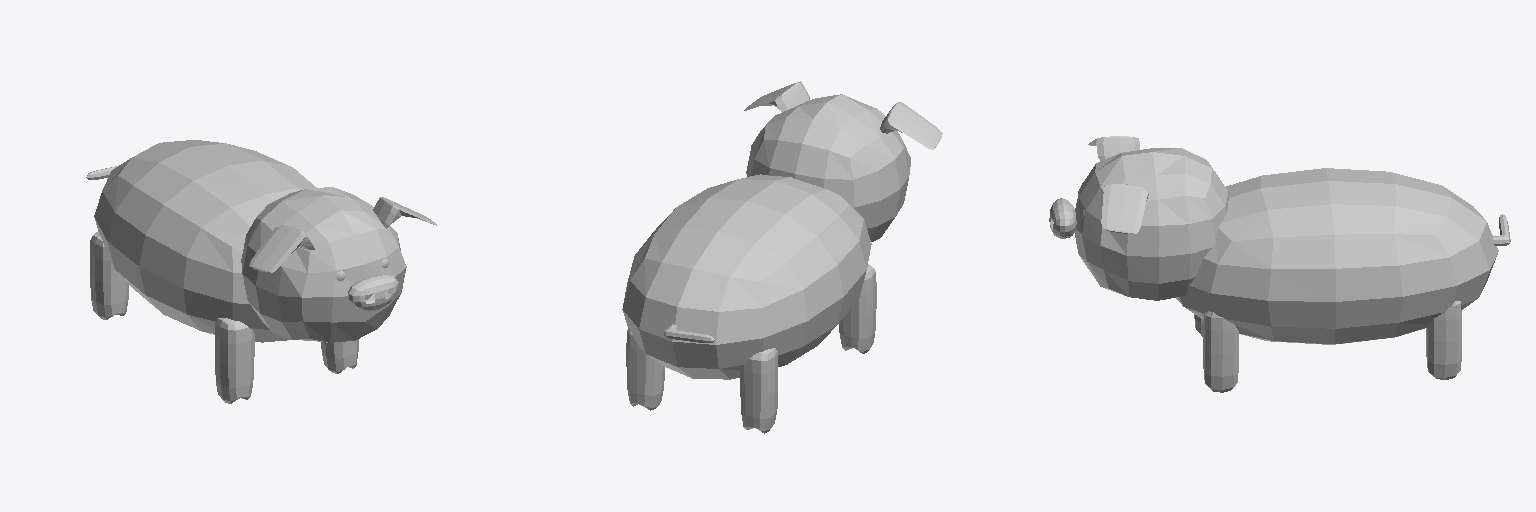
File: corpo.obj
3 renders of one model, left to right at view 1: azimuth 30°, elevation 25°; view 2: azimuth 150°, elevation 25°; view 3: azimuth 270°, elevation 25°, orthographic.
Parts seen in each view (by area): view 1: Cube, Cubo.003, Cubo.008, Cubo.006, Cubo.007, Cubo.004; view 2: Cube, Cubo.003, Cubo.007, Cubo.006, Cubo.008; view 3: Cube, Cubo.003, Cubo.006, Cubo.008, Cubo.007, Cubo.004.
Boxes of the visible parts, <box> form: Cube: <box>94,140,316,342</box>; Cubo.003: <box>241,187,406,342</box>; Cubo.008: <box>215,318,358,403</box>; Cubo.006: <box>249,197,436,272</box>; Cubo.007: <box>90,232,128,319</box>; Cubo.004: <box>348,275,398,311</box>; Cube: <box>622,174,871,379</box>; Cubo.003: <box>746,94,910,241</box>; Cubo.007: <box>626,328,778,433</box>; Cubo.006: <box>744,81,942,149</box>; Cubo.008: <box>839,264,876,353</box>; Cube: <box>1176,168,1498,344</box>; Cubo.003: <box>1074,148,1228,300</box>; Cubo.006: <box>1088,136,1148,233</box>; Cubo.008: <box>1194,311,1238,392</box>; Cubo.007: <box>1426,301,1461,379</box>; Cubo.004: <box>1049,198,1076,238</box>.
Size of the model in its own units: 3.34 by 3.52 by 6.92.